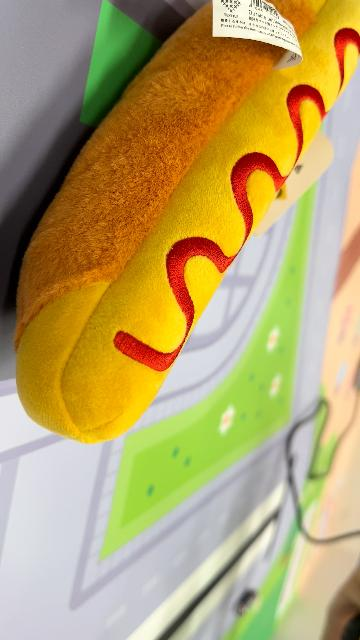hotdog: (14, 2, 358, 446)
